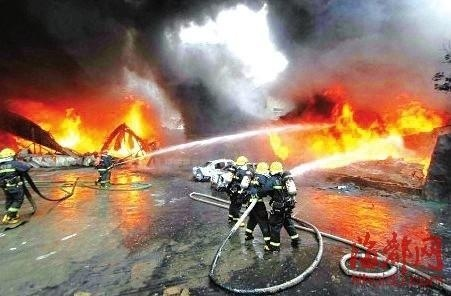fire: (269, 89, 439, 169), (11, 95, 159, 158)
